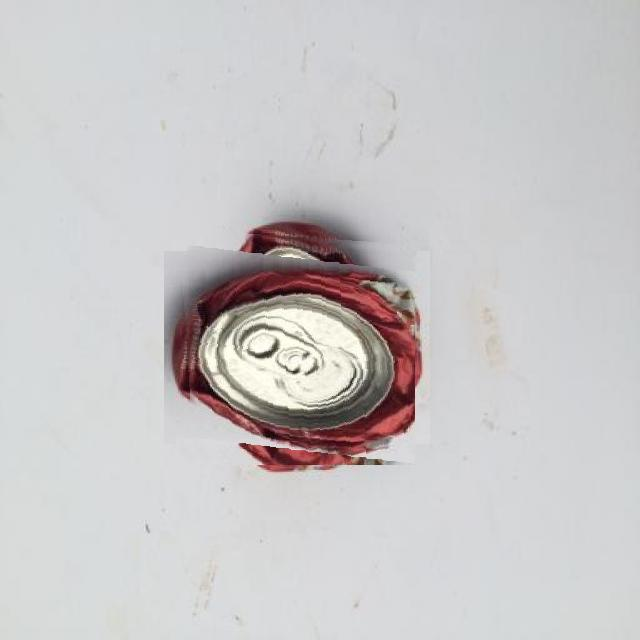recyclable: (179, 229, 415, 465)
